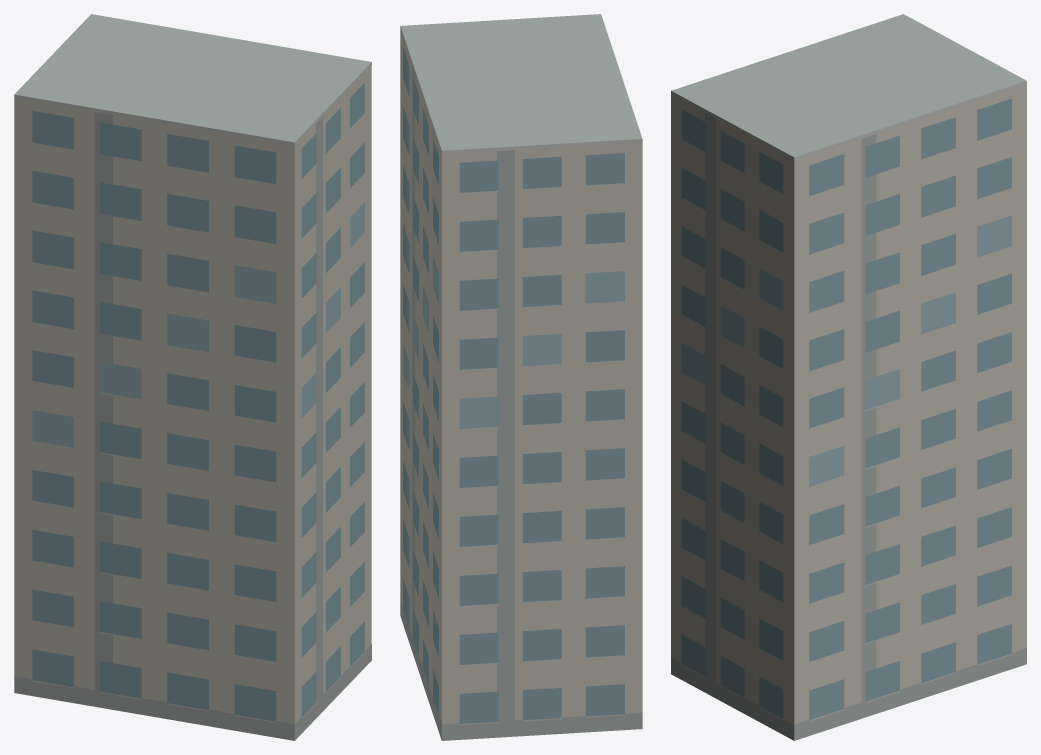
File: residential-9f70a077-0f00-4fbc-96ef-19c8581a27e7.glb
The picture shows the model from 3 angles, left to right: view 1: azimuth 30°, elevation 25°; view 2: azimuth 150°, elevation 25°; view 3: azimuth 270°, elevation 25°; orthographic projection. The views are drawn at different scales.
Visible parts, largest first — view 1: residential-9f70a077-0f00-4fbc-96ef-19c8581a27e7.tmp; view 2: residential-9f70a077-0f00-4fbc-96ef-19c8581a27e7.tmp; view 3: residential-9f70a077-0f00-4fbc-96ef-19c8581a27e7.tmp.
Boxes of the visible parts, left/top/right/bottom form: residential-9f70a077-0f00-4fbc-96ef-19c8581a27e7.tmp: left=14, top=14, right=371, bottom=740; residential-9f70a077-0f00-4fbc-96ef-19c8581a27e7.tmp: left=400, top=14, right=642, bottom=740; residential-9f70a077-0f00-4fbc-96ef-19c8581a27e7.tmp: left=671, top=14, right=1026, bottom=740.
Bounding box in the file's own units: 21.1 × 40 × 22.12.
